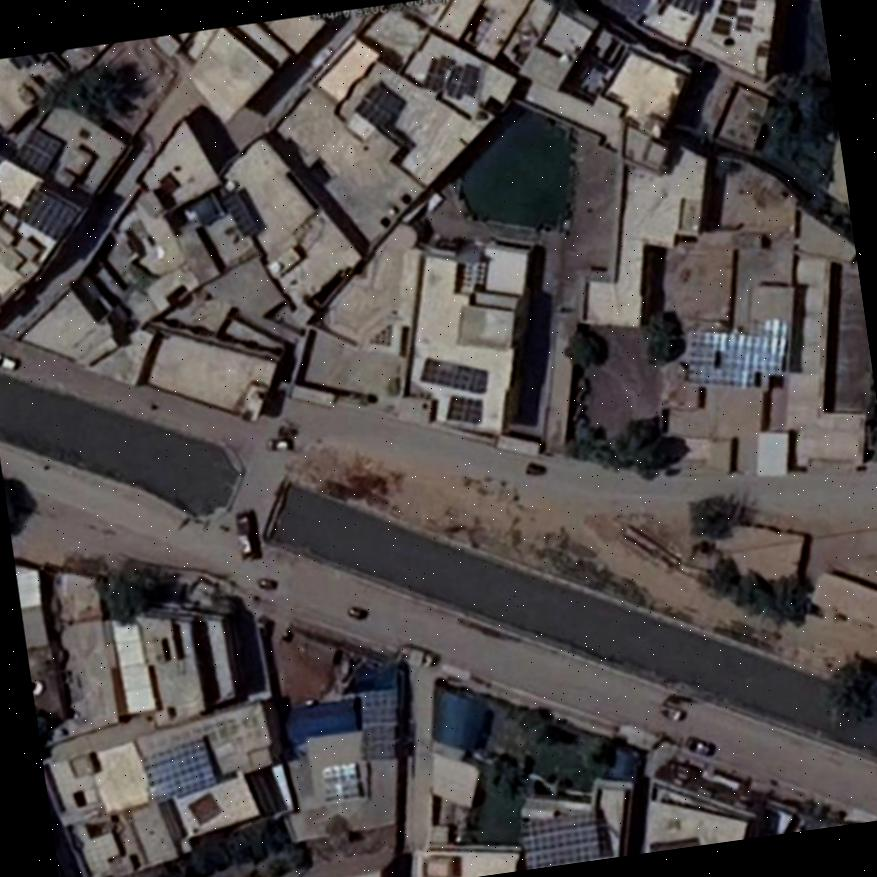Solarpanel: (685, 328, 789, 390), (143, 737, 216, 800), (523, 812, 597, 869), (16, 187, 77, 239), (359, 686, 395, 758), (12, 126, 61, 176), (424, 357, 486, 393), (355, 83, 402, 129), (445, 394, 479, 422), (670, 0, 702, 12)
